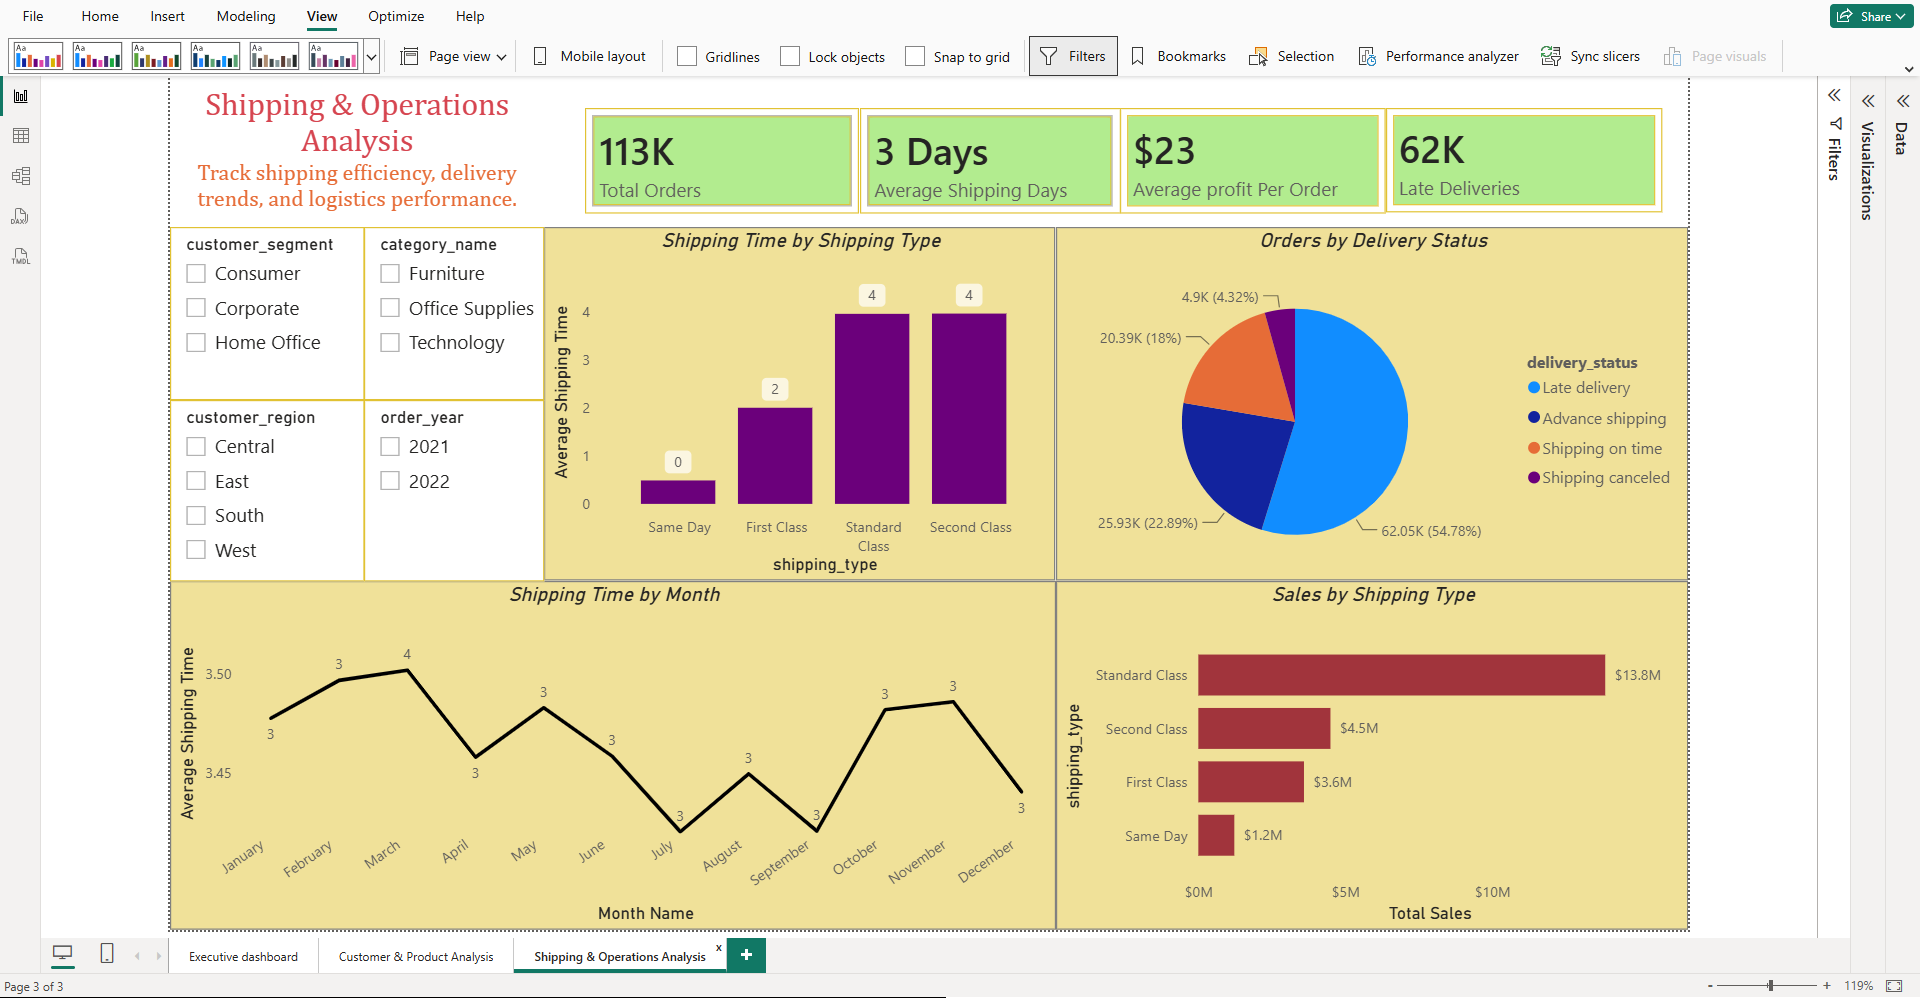

The page's visual inventory and layout, read from the dashboard file:
{"tool":"powerbi","page":{"name":"Shipping & Operations Analysis","canvas":[1280,720],"ordinal":2},"visuals":[{"type":"cardVisual","fields":{"Data":["Ecommerce_data.Late Deliveries"]},"box":[1025.6,26.7,233.2,88.3],"z":0},{"type":"cardVisual","fields":{"Data":["Ecommerce_data.Average profit"]},"box":[801.3,26.7,224.4,89.2],"z":1000},{"type":"cardVisual","fields":{"Data":["Ecommerce_data.Average Shipping Time"]},"box":[581.3,26.7,220,89.2],"z":2000},{"type":"cardVisual","fields":{"Data":["Ecommerce_data.Total Orders"]},"box":[350.2,26.7,231.4,89.2],"z":3000},{"type":"textbox","box":[0,2.6,315.7,125.1],"z":4000},{"type":"pieChart","title":" Orders by Delivery Status","fields":{"Category":["Ecommerce_data.delivery_status"],"Y":["CountNonNull(Ecommerce_data.order_id)"]},"box":[747,127.7,533,298.4],"z":5000},{"type":"clusteredBarChart","title":"Sales by Shipping Type","fields":{"Category":["Ecommerce_data.shipping_type"],"Y":["Ecommerce_data.Total Sales"]},"box":[747,426.1,533,294.1],"z":6000},{"type":"lineStackedColumnComboChart","title":"Shipping Time by Shipping Type","fields":{"Y":["Ecommerce_data.Average Shipping Time"],"Category":["Ecommerce_data.shipping_type"]},"box":[315.7,127.7,431.3,298.4],"z":7000},{"type":"lineChart","title":"Shipping Time by Month","fields":{"Category":["Calender.Month Name"],"Y":["Ecommerce_data.Average Shipping Time"]},"box":[0,426.1,747,294.1],"z":8000},{"type":"slicer","fields":{"Values":["Ecommerce_data.customer_segment"]},"box":[0,127.7,163.9,145.8],"z":9000},{"type":"slicer","fields":{"Values":["Ecommerce_data.customer_region"]},"box":[0,273.4,163.9,152.7],"z":10000},{"type":"slicer","fields":{"Values":["Ecommerce_data.category_name"]},"box":[163.9,127.7,151.8,145.8],"z":11000},{"type":"slicer","fields":{"Values":["Ecommerce_data.order_year"]},"box":[163.9,273.4,151.8,152.7],"z":12000}]}

Visuals, with their boxes on the page's 1280x720 design canvas (x1, y1, x2, y2). These are canvas units, not pixel positions in the 1920x998 screenshot, which may show the page scaled, cropped or inside an application window:
cardVisual - Ecommerce_data.Late Deliveries: rect(1026, 27, 1259, 115)
cardVisual - Ecommerce_data.Average profit: rect(801, 27, 1026, 116)
cardVisual - Ecommerce_data.Average Shipping Time: rect(581, 27, 801, 116)
cardVisual - Ecommerce_data.Total Orders: rect(350, 27, 582, 116)
textbox: rect(0, 3, 316, 128)
" Orders by Delivery Status" pieChart: rect(747, 128, 1280, 426)
"Sales by Shipping Type" clusteredBarChart: rect(747, 426, 1280, 720)
"Shipping Time by Shipping Type" lineStackedColumnComboChart: rect(316, 128, 747, 426)
"Shipping Time by Month" lineChart: rect(0, 426, 747, 720)
slicer - Ecommerce_data.customer_segment: rect(0, 128, 164, 274)
slicer - Ecommerce_data.customer_region: rect(0, 273, 164, 426)
slicer - Ecommerce_data.category_name: rect(164, 128, 316, 274)
slicer - Ecommerce_data.order_year: rect(164, 273, 316, 426)
